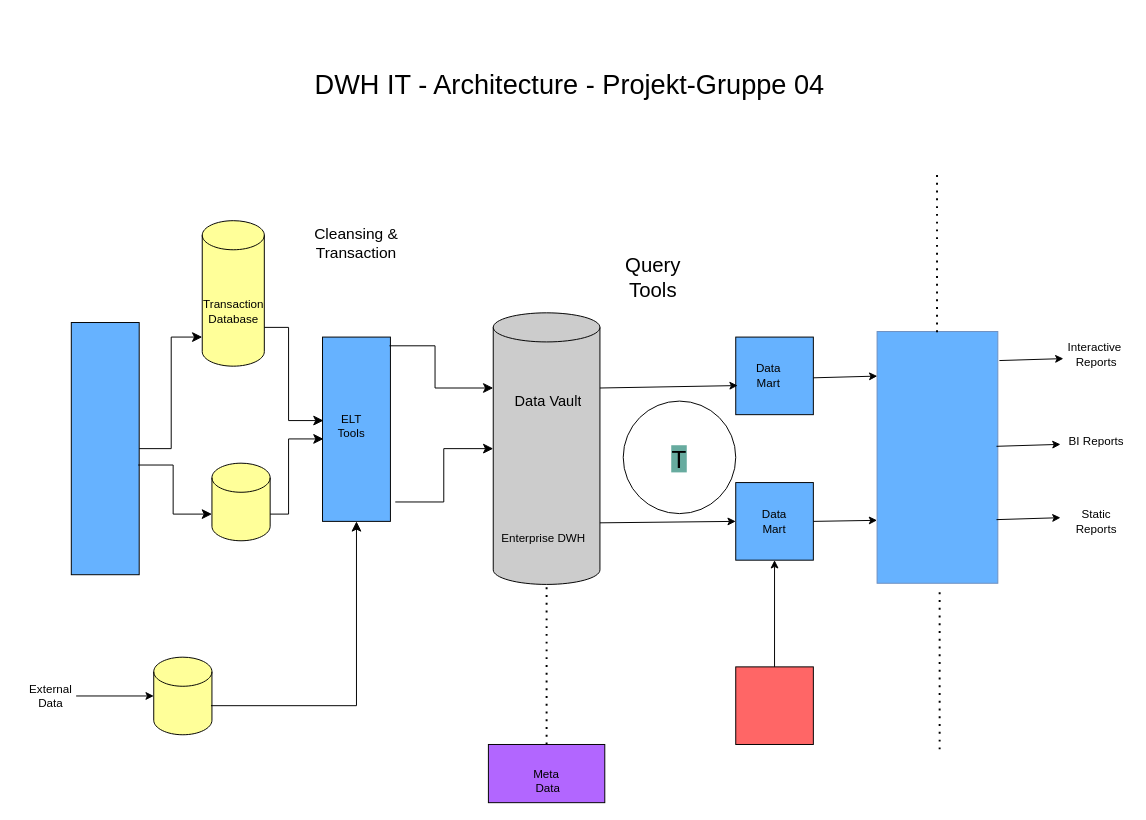
Some shapes in this 1146 by 820 pixel diagram are drawn without their labels. Here are the shapes that lost their labels. From the top down, the box of each, then its label:
(70, 322, 139, 575): Operational Systems
(876, 331, 998, 583): Reporting/ Analysis/ Mining Tools
(735, 666, 813, 744): Analytoc Application
